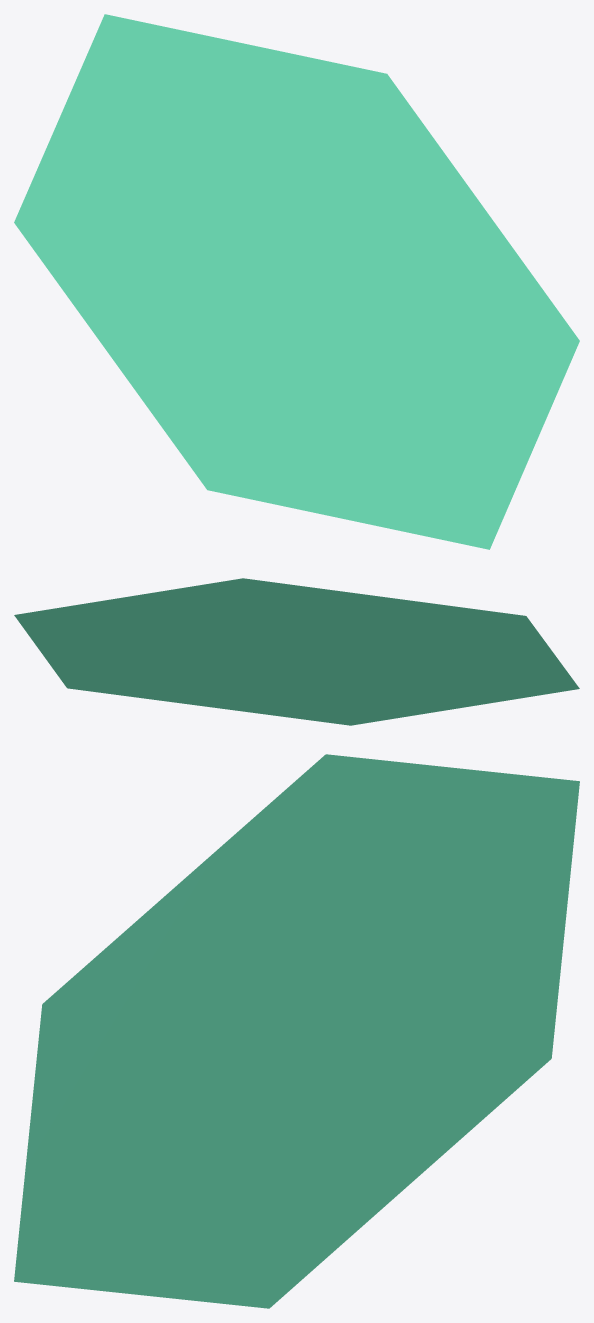
The model's file is p_ex5c_hexagono.glb.
3 views of the same model, one above another, from view 1: azimuth 30°, elevation 25°; view 2: azimuth 150°, elevation 25°; view 3: azimuth 270°, elevation 25° (orthographic). The views are drawn at different scales.
Size of the model in its own units: 3.98 by 2.7 by 3.23.
